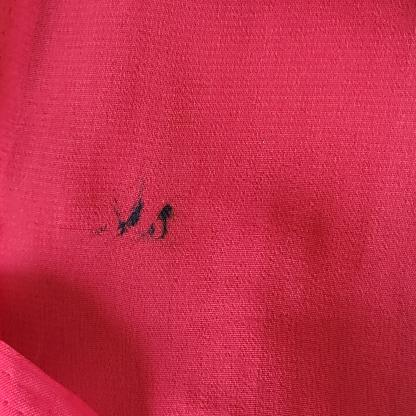spot: (113, 187, 185, 255)
